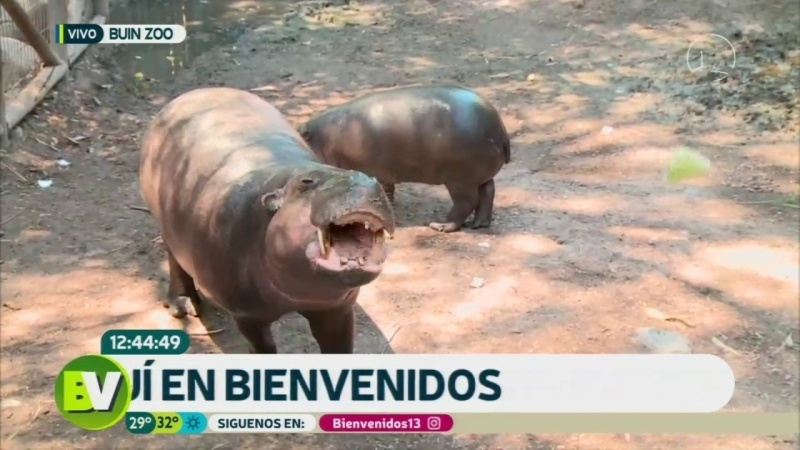hipopotamo: (125, 79, 395, 354), (294, 66, 526, 239)
